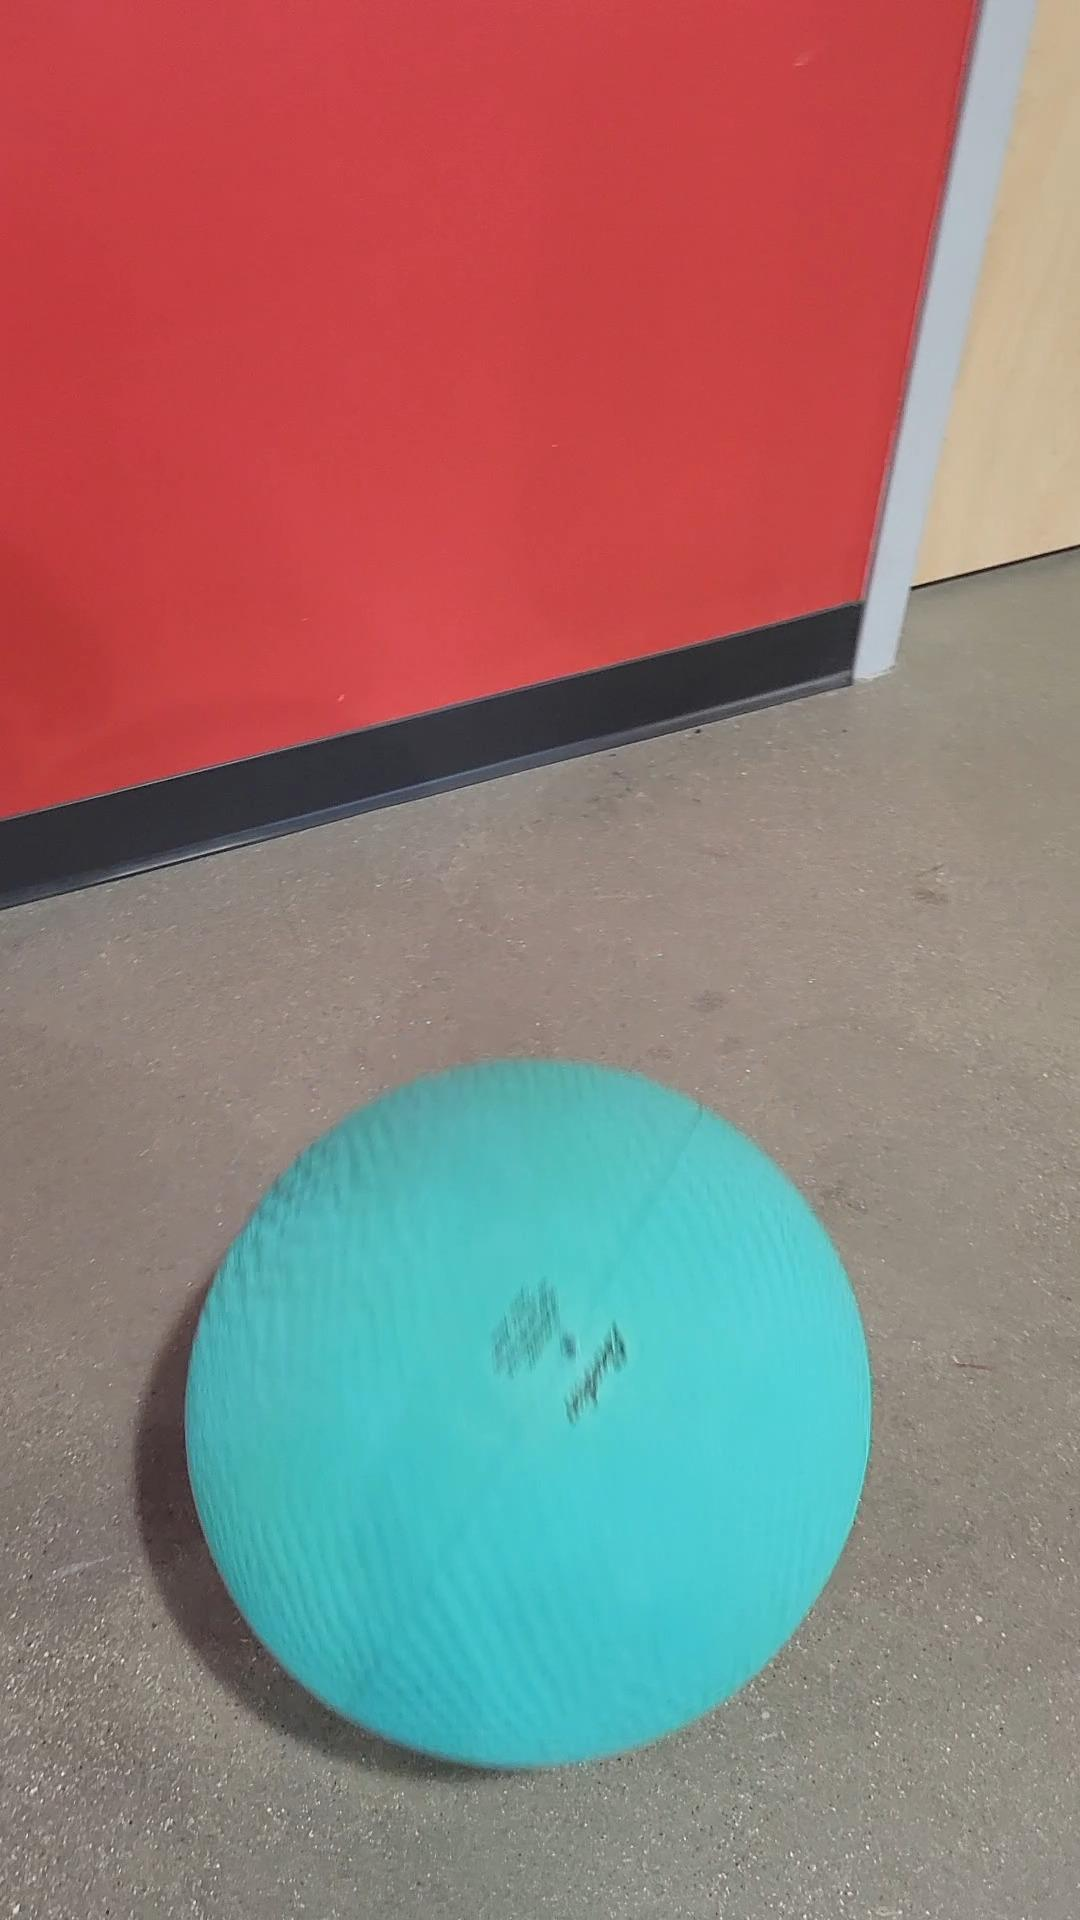algae: (196, 1056, 866, 1764)
